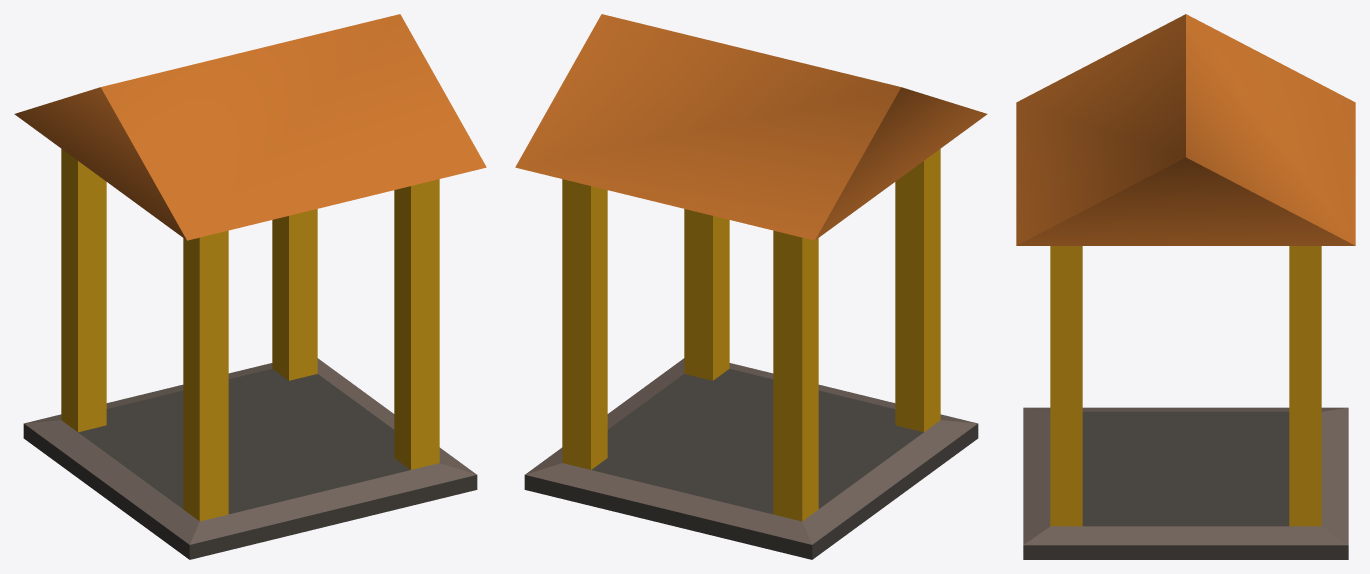
File: Temple.fbx
The picture shows the model from 3 angles, left to right: view 1: azimuth 30°, elevation 25°; view 2: azimuth 150°, elevation 25°; view 3: azimuth 270°, elevation 25°; orthographic projection.
Visible parts, largest first — view 1: Temple; view 2: Temple; view 3: Temple.
Boxes of the visible parts, x1=… form: Temple: x1=14, y1=14, x2=486, y2=559; Temple: x1=515, y1=14, x2=987, y2=559; Temple: x1=1016, y1=14, x2=1355, y2=559.
Size of the model in its own units: 104 by 138 by 104.
